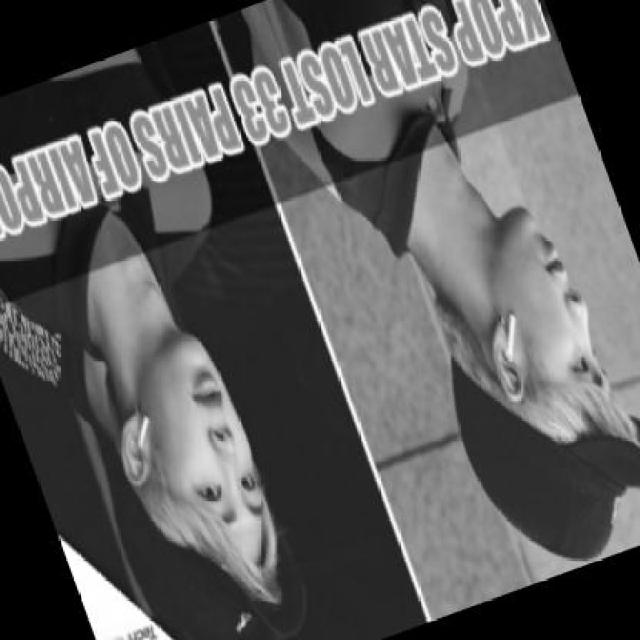earphone: (126, 413, 181, 450), (498, 312, 528, 378)
